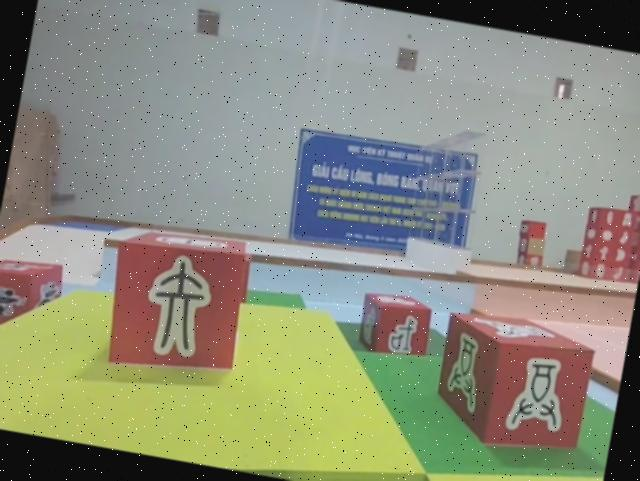R1: (0, 247, 67, 340)
R2 Fake: (95, 217, 257, 385)
R2 Real: (425, 302, 601, 463), (353, 285, 437, 362)
